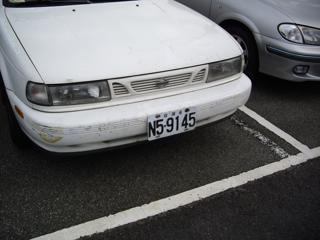plate: (145, 108, 197, 140)
